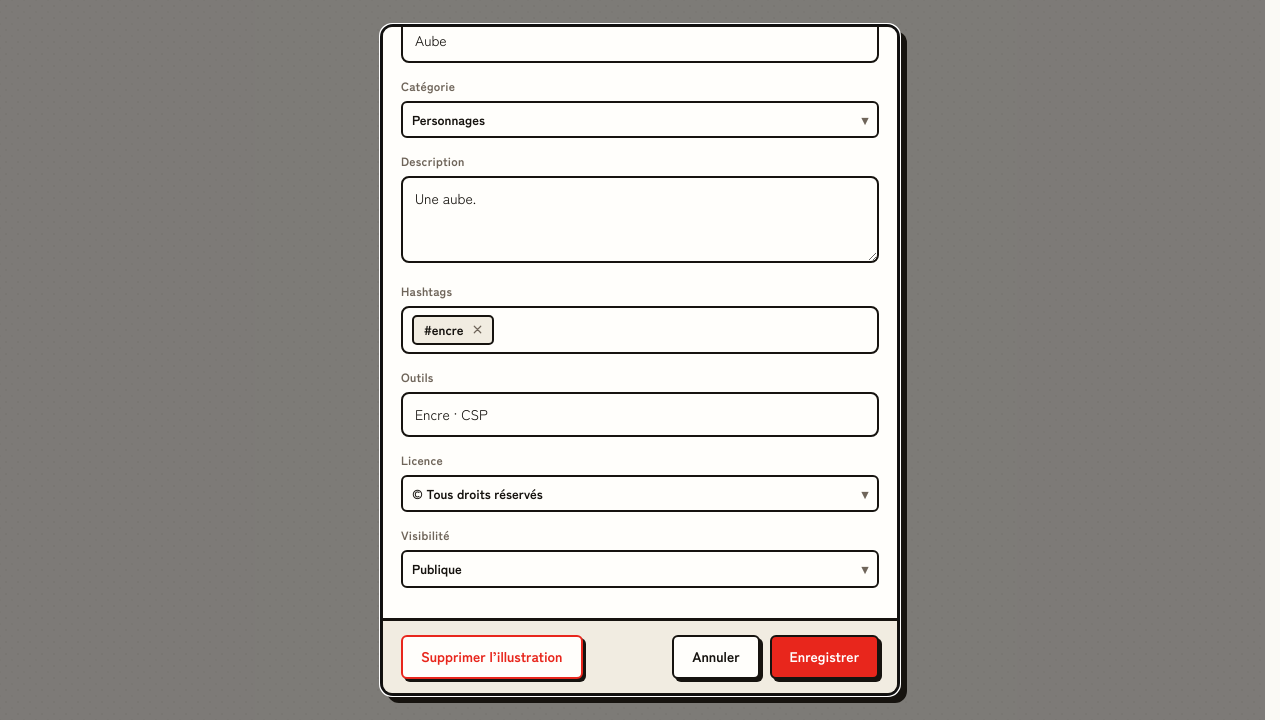
EditIllustrationForm (DR-12 FE-13 · V12) › shows a French notice and keeps values on an API error
(page scrolled)
Click the button "Enregistrer" at (824, 656), box [770,634,879,678]
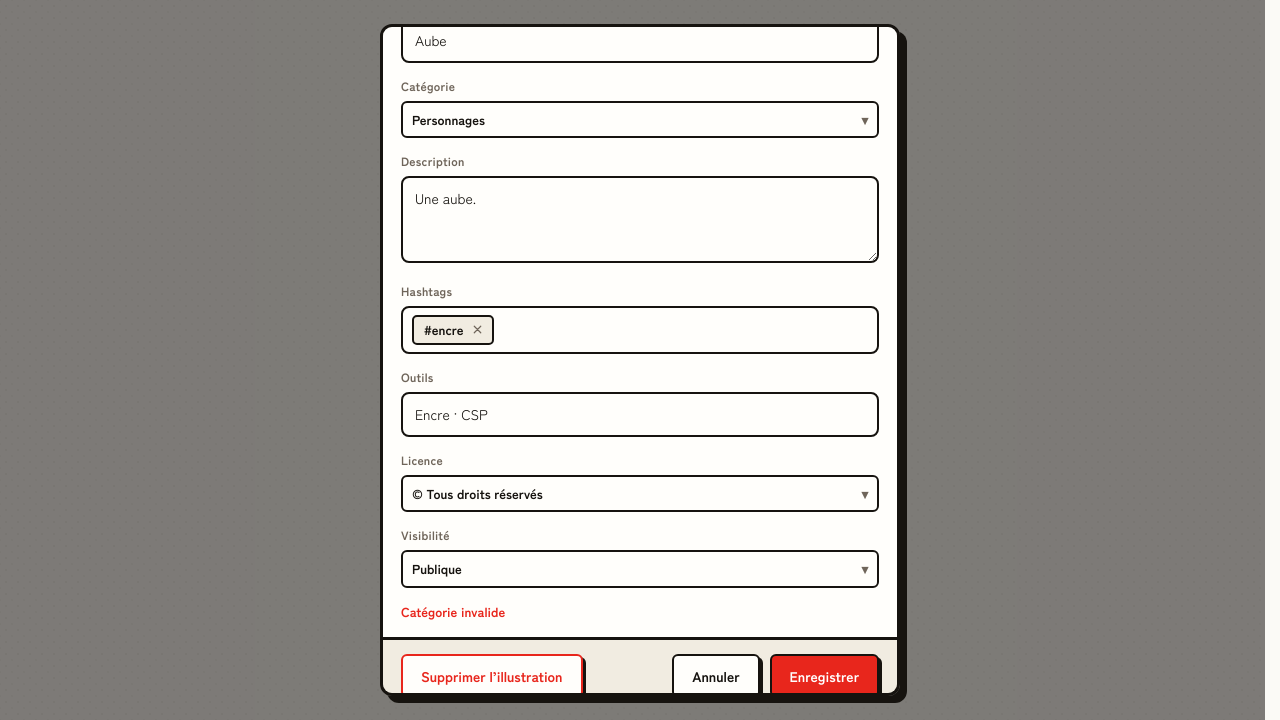
Check: the field labelled "Titre" holds "Aube", box [401,24,879,62]
Check: the text "Catégorie invalide" is shown, box [401,602,505,620]
